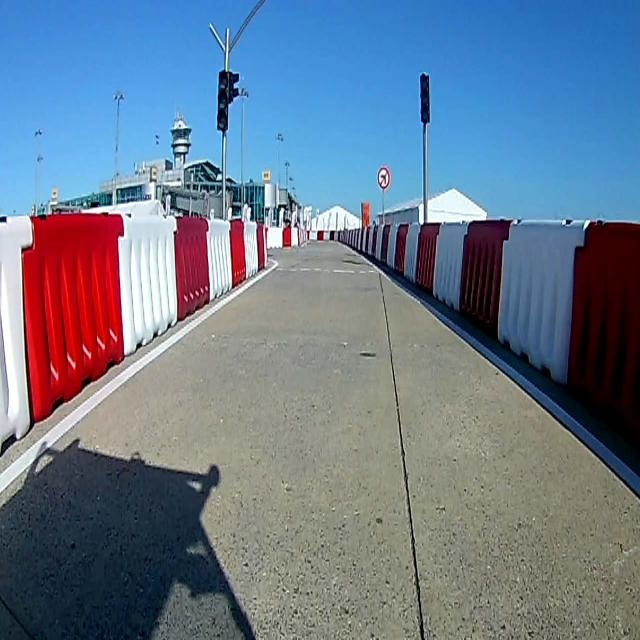soladonulmez: (377, 165, 391, 188)
